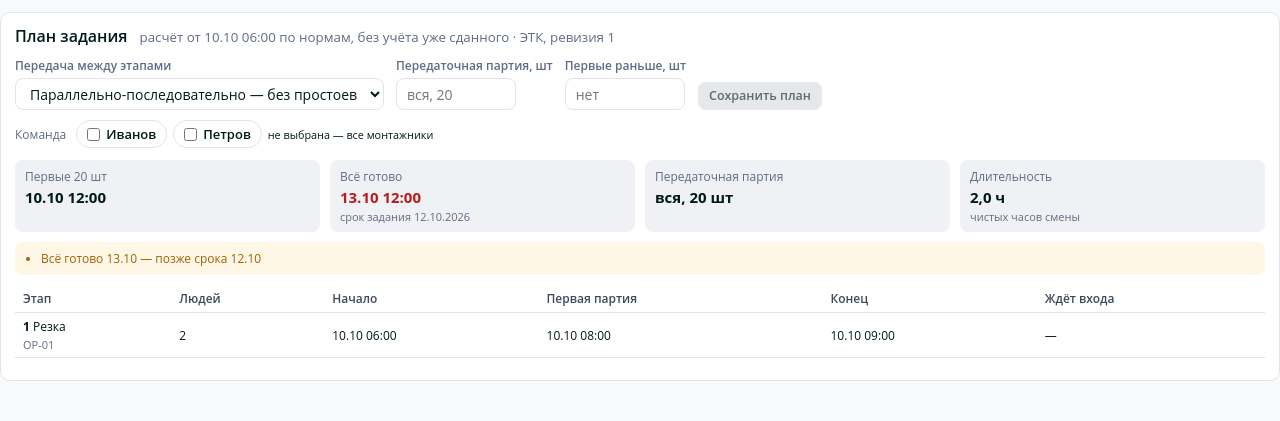
refuses early pieces equal to the run before saving
Step 1. Type "20" into the field labelled "Первые раньше" → (625, 94), box [565,78,685,110]
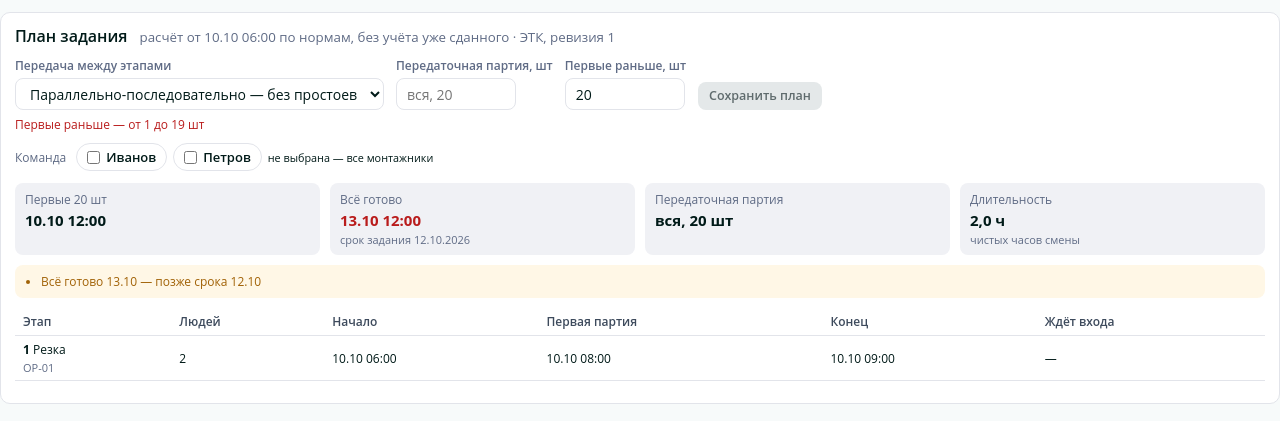
Expected: the button "Сохранить план" is disabled, [698,82,822,110]
Expected: the message reads "Первые раньше — от 1 до 19 шт", [15,116,204,133]
